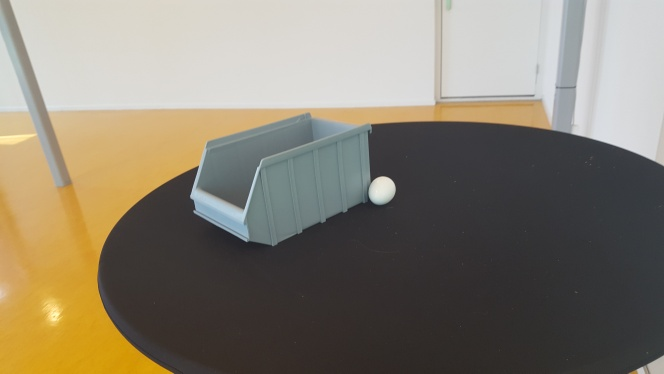egg: (368, 172, 395, 207)
tray_right: (245, 120, 370, 245)
